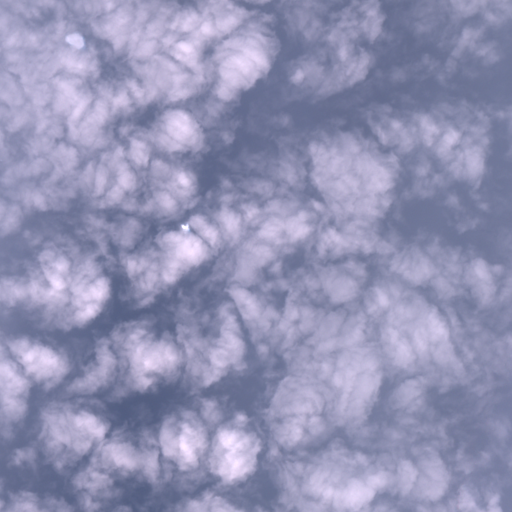Iceberg: (66, 34, 82, 47), (181, 224, 188, 230)
